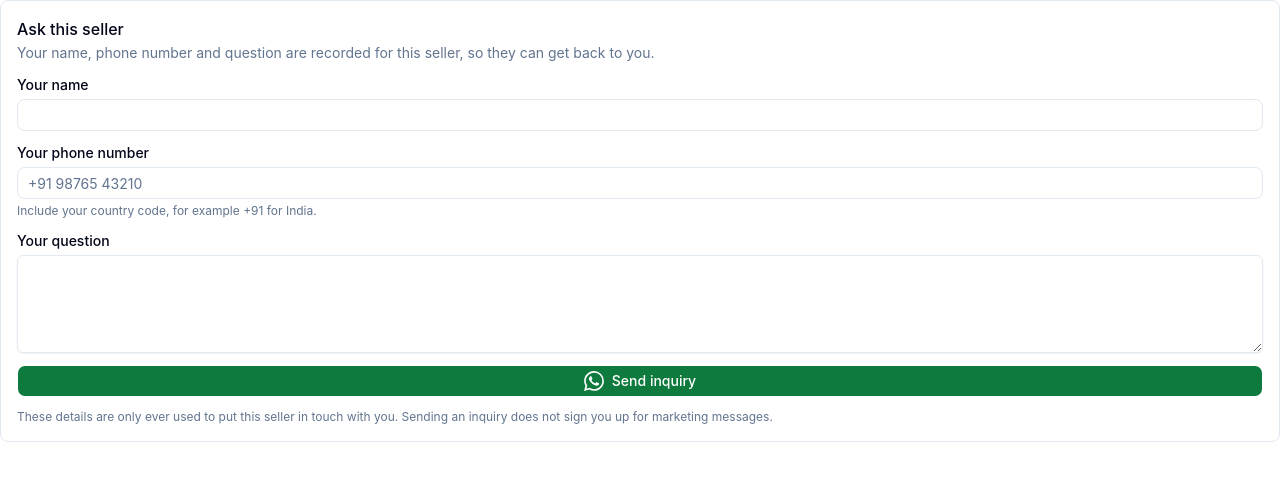
Test: InquiryForm › falls back to the vague copy when the server dated nothing
Type "Asha Rao" into the field labelled "Your name" at (640, 115), box [17,99,1263,131]
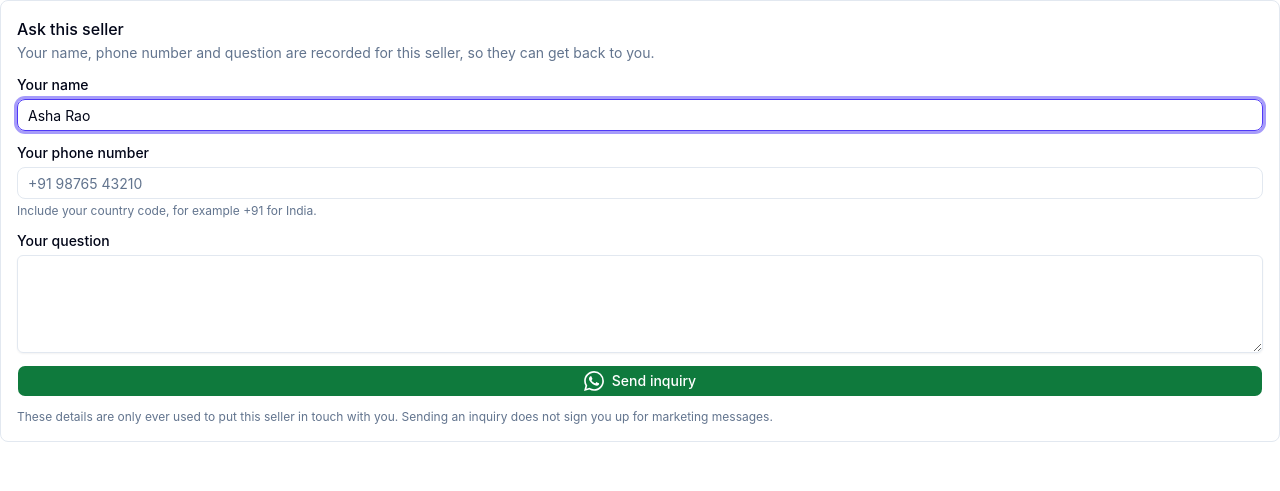
Type "+919000000001" into the field labelled "Your phone number" at (640, 183), box [17,167,1263,199]
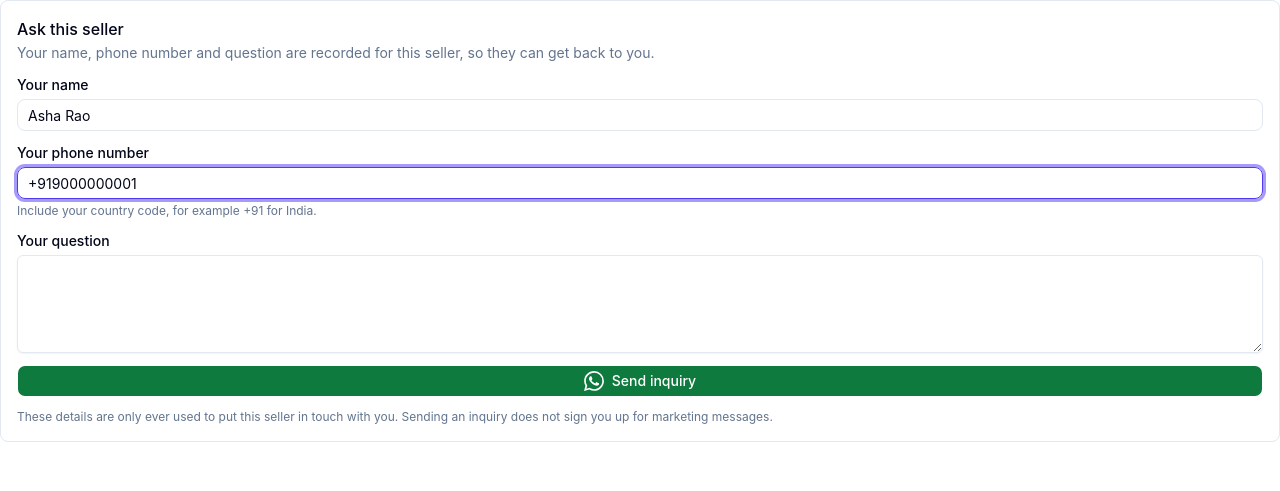
Type "Available in Chennai?" into the text box labelled "Your question" at (640, 304), box [17,255,1263,353]
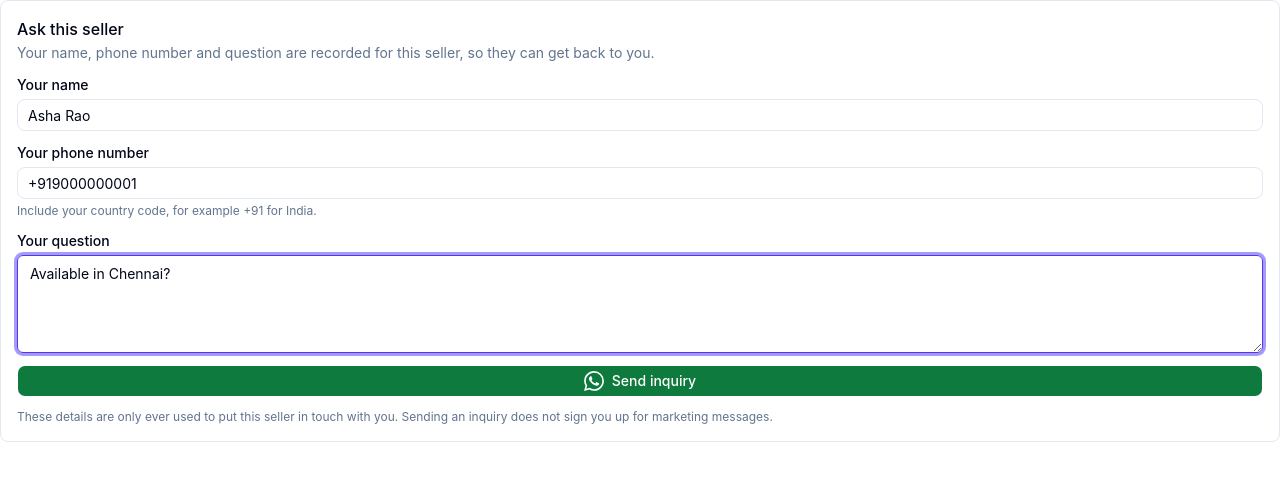
Click the button "Send inquiry" at (640, 381), box [17,365,1263,397]
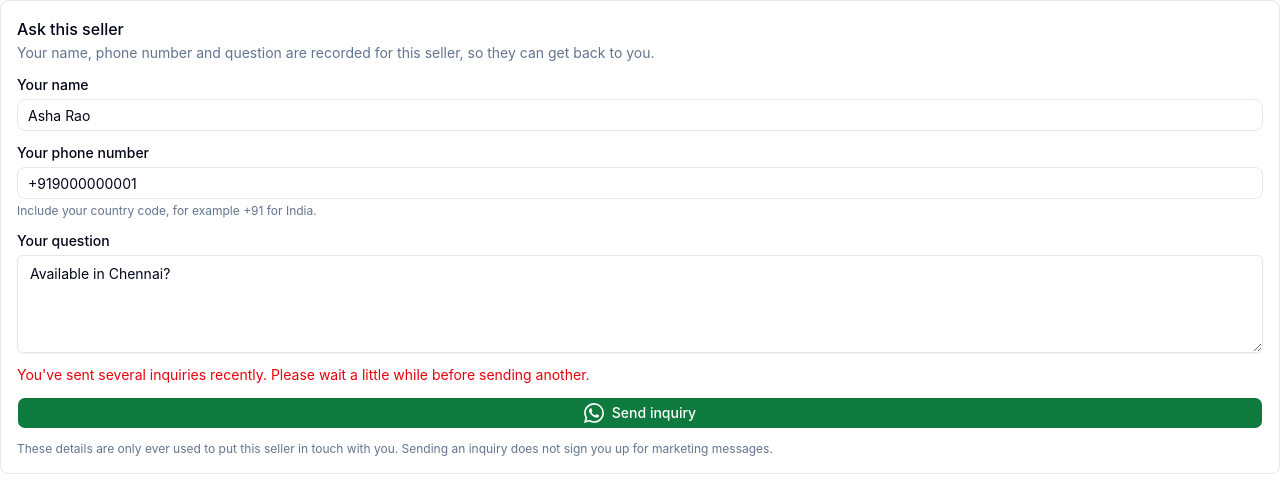
Check: the message does not show "minutes", box [17,366,590,383]
Check: the message is shown, box [17,366,590,383]
